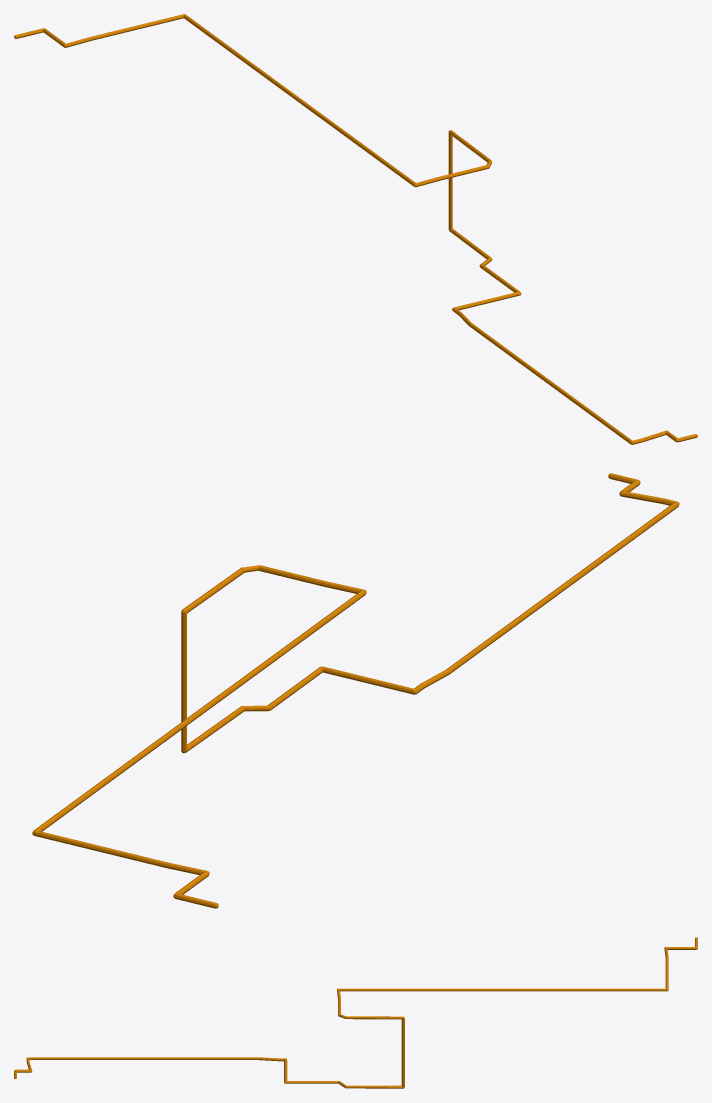
3 renders of one model, top to bottom at view 1: azimuth 30°, elevation 25°; view 2: azimuth 150°, elevation 25°; view 3: azimuth 270°, elevation 25°, orthographic. The views are drawn at different scales.
Size of the model in its own units: 1247 by 520 by 4475.
